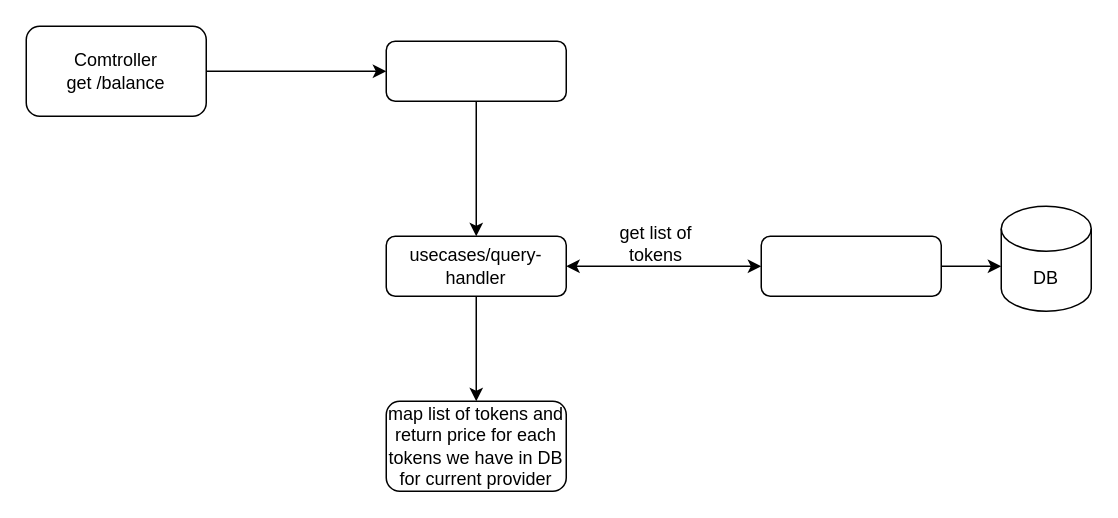
The diagram is 1118 pixels wide and 518 high, and some of its shapes have lost their labels. The shapes that lost their labels are listed below. From the top down, each one's centre as x and y in pixels, then its label:
pixel 475 70: usecases/query-command
pixel 850 265: repository
